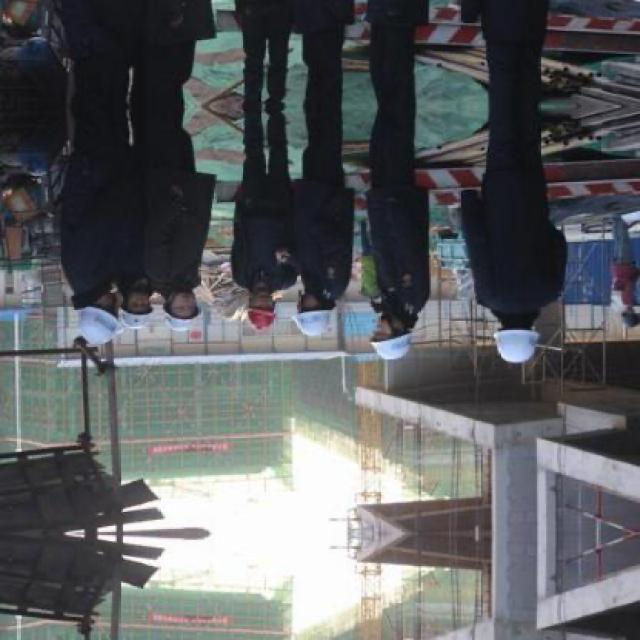con casco: (485, 302, 577, 369), (39, 285, 133, 331), (122, 288, 205, 340), (106, 284, 176, 342), (372, 302, 428, 369), (200, 295, 286, 337), (295, 287, 337, 358)
